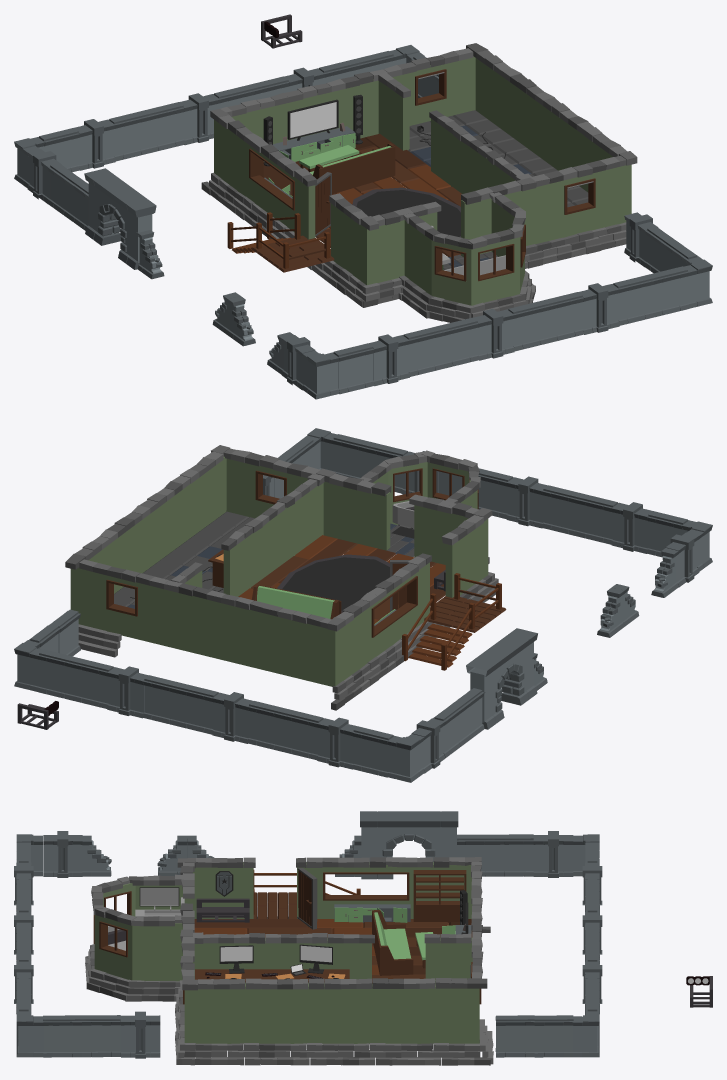
3 renders of one model, top to bottom at view 1: azimuth 30°, elevation 25°; view 2: azimuth 150°, elevation 25°; view 3: azimuth 270°, elevation 25°, orthographic. The views are drawn at different scales.
Parts seen in each view (by area): view 1: Cube.190, Cube.158; view 2: Cube.190, Cube.158; view 3: Cube.190, Cube.158.
Part boxes in pixels (x1=…): Cube.190: x1=14, y1=43, x2=712, y2=399; Cube.158: x1=261, y1=14, x2=302, y2=48; Cube.190: x1=14, y1=428, x2=712, y2=782; Cube.158: x1=17, y1=703, x2=58, y2=729; Cube.190: x1=14, y1=811, x2=602, y2=1065; Cube.158: x1=690, y1=976, x2=712, y2=1007.
Size of the model in its own units: 1040 by 197 by 1567.
